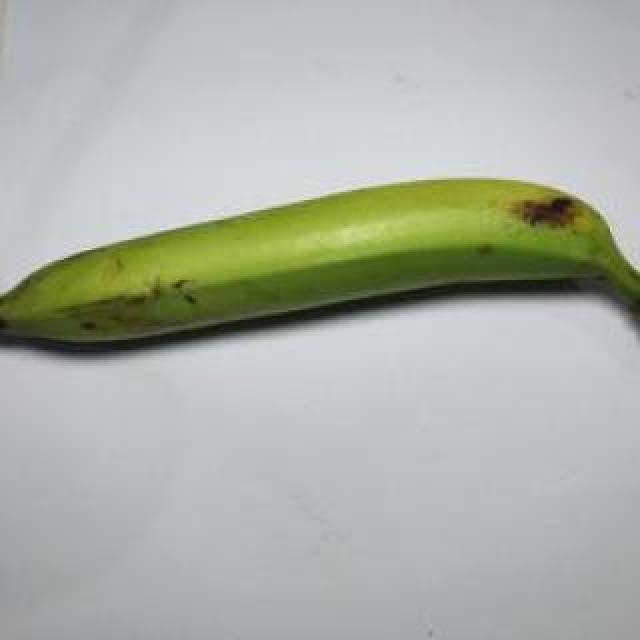Unripe: (1, 175, 640, 348)
